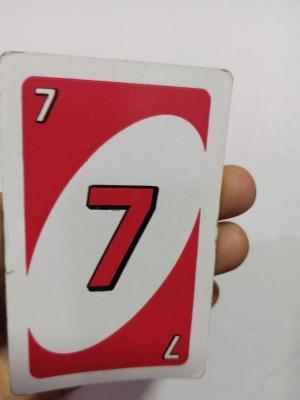num_7: (27, 77, 64, 130)
